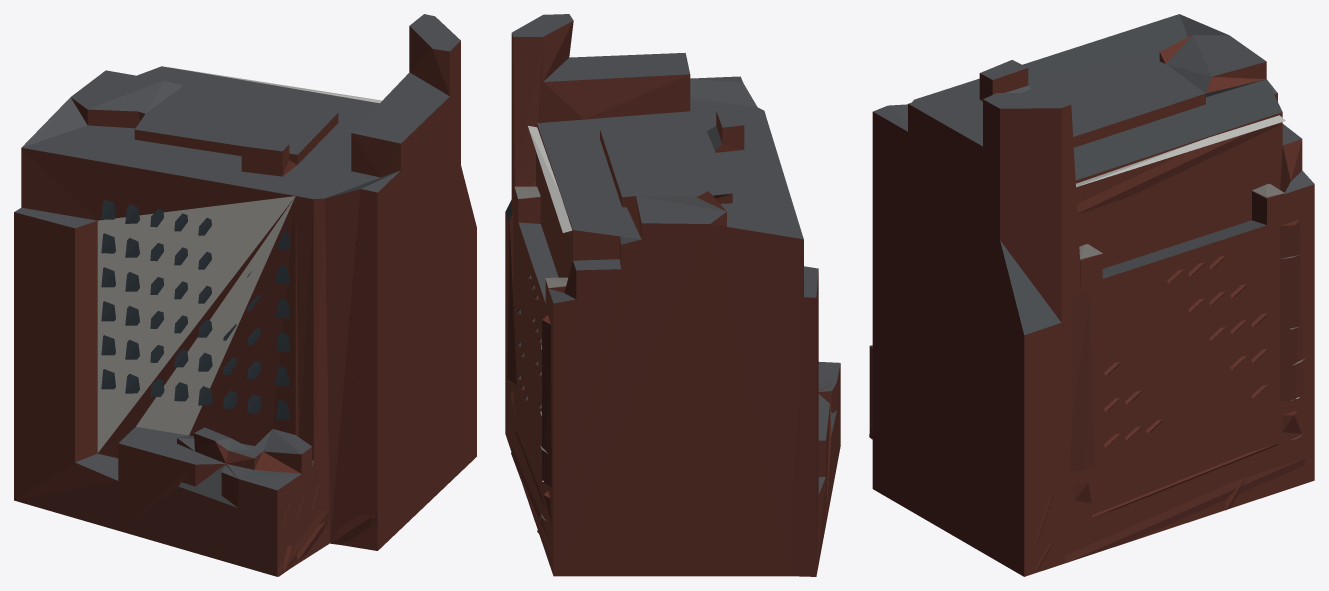
The model's file is atlanta-stadhouderskade.lod2.glb.
3 renders of one model, left to right at view 1: azimuth 30°, elevation 25°; view 2: azimuth 150°, elevation 25°; view 3: azimuth 270°, elevation 25°, orthographic. The views are drawn at different scales.
Visible parts, largest first — view 1: lod2; view 2: lod2; view 3: lod2.
Boxes of the visible parts, x1=… form: lod2: x1=14, y1=14, x2=476, y2=576; lod2: x1=505, y1=14, x2=840, y2=576; lod2: x1=869, y1=14, x2=1314, y2=576.
Bounding box in the file's own units: 40.6 × 42.93 × 37.95.
